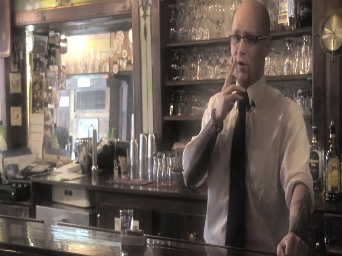smoke: (225, 60, 237, 67)
